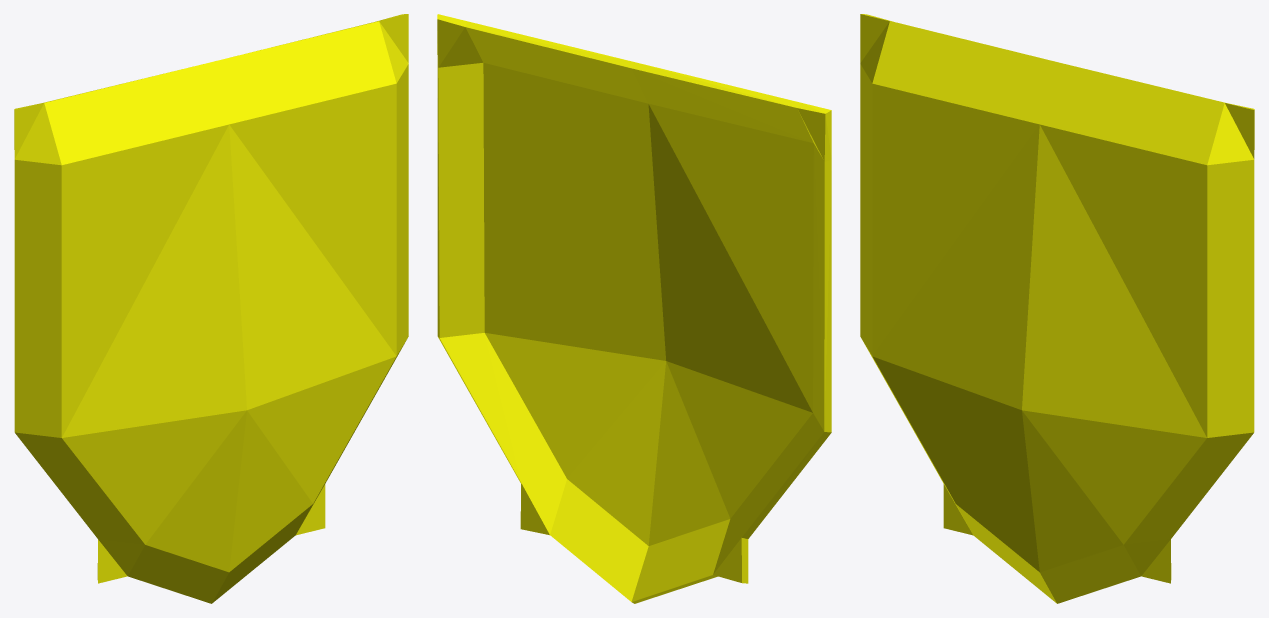
Rendered from Army_Shield.glb.
3 renders of one model, left to right at view 1: azimuth 30°, elevation 25°; view 2: azimuth 150°, elevation 25°; view 3: azimuth 330°, elevation 25°, orthographic.
Visible parts, largest first — view 1: Shield; view 2: Shield; view 3: Shield.
Boxes of the visible parts, left/top/right/bottom form: Shield: left=14, top=14, right=408, bottom=603; Shield: left=437, top=14, right=831, bottom=603; Shield: left=860, top=14, right=1254, bottom=603.
Size of the model in its own units: 0.5832 by 0.766 by 0.0995.
1 material, 1 textured.
